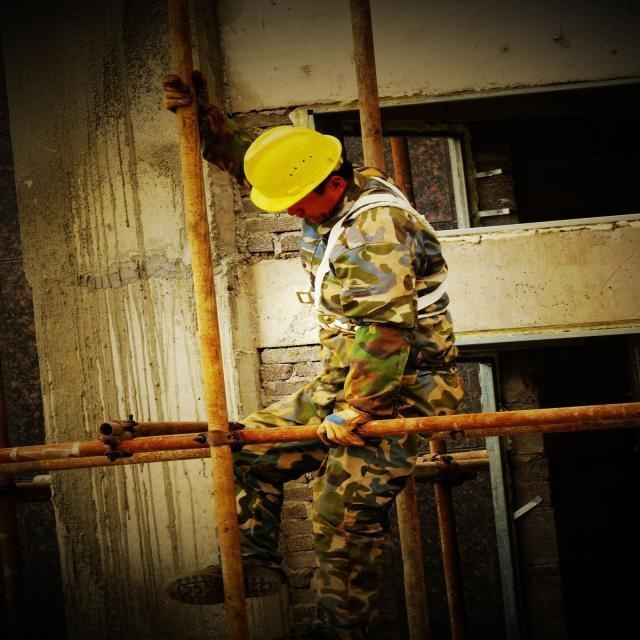Arnes_seguridad: (296, 172, 456, 337)
